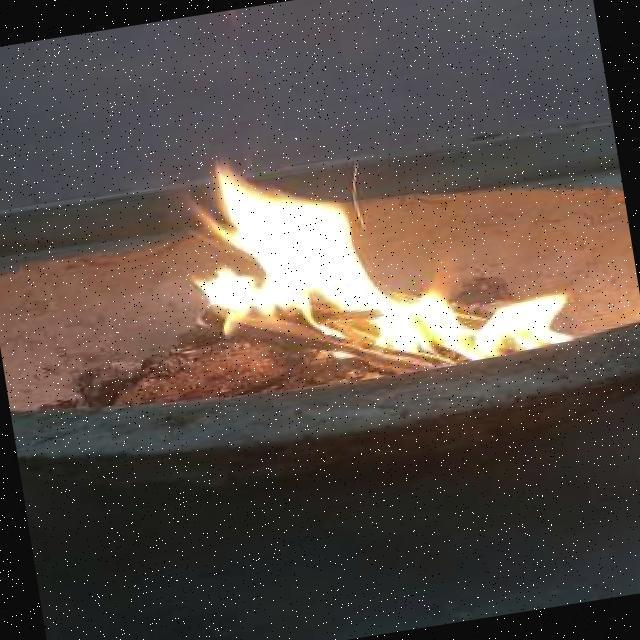Fire: (134, 77, 579, 408)
